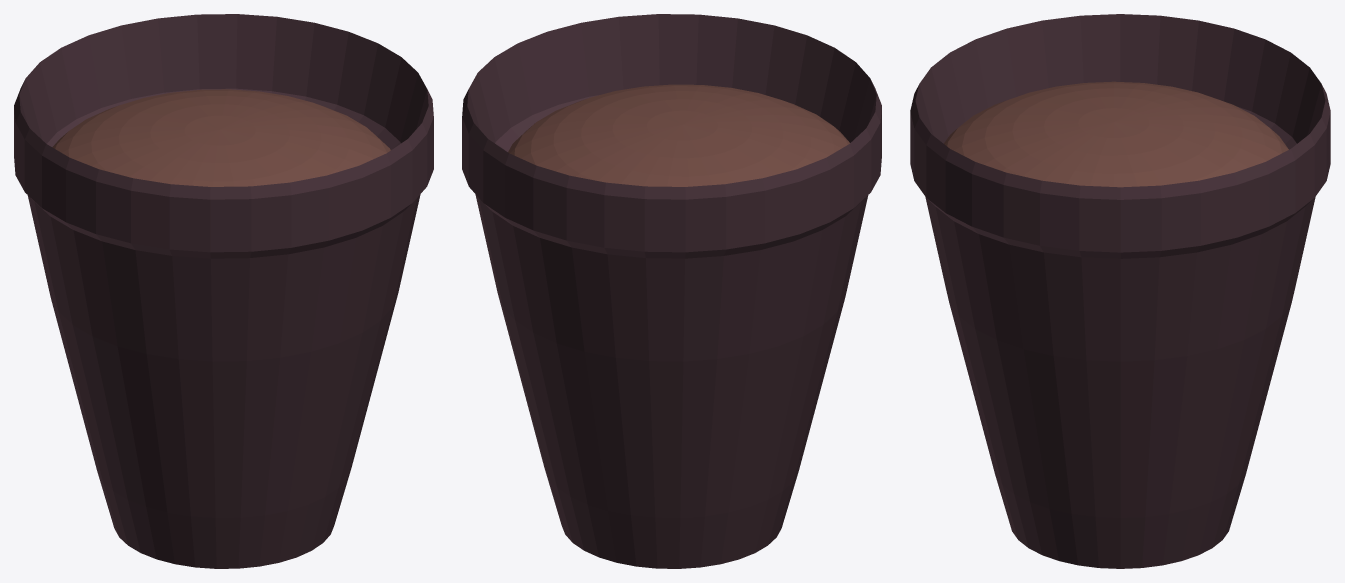
File: PlantPot.fbx
The picture shows the model from 3 angles, left to right: view 1: azimuth 30°, elevation 25°; view 2: azimuth 150°, elevation 25°; view 3: azimuth 270°, elevation 25°; orthographic projection.
Parts seen in each view (by area): view 1: PlantPot; view 2: PlantPot; view 3: PlantPot.
Part boxes in pixels (x1,y1,x2,y2): PlantPot: [14, 14, 433, 568]; PlantPot: [462, 14, 881, 568]; PlantPot: [910, 14, 1330, 568].
Size of the model in its own units: 114 by 114 by 126.
